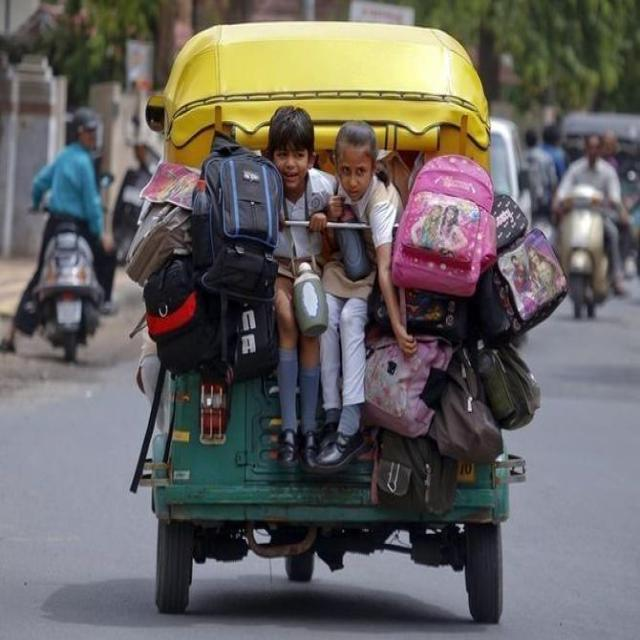autorickshaw: (140, 371, 525, 623), (150, 23, 490, 220)
